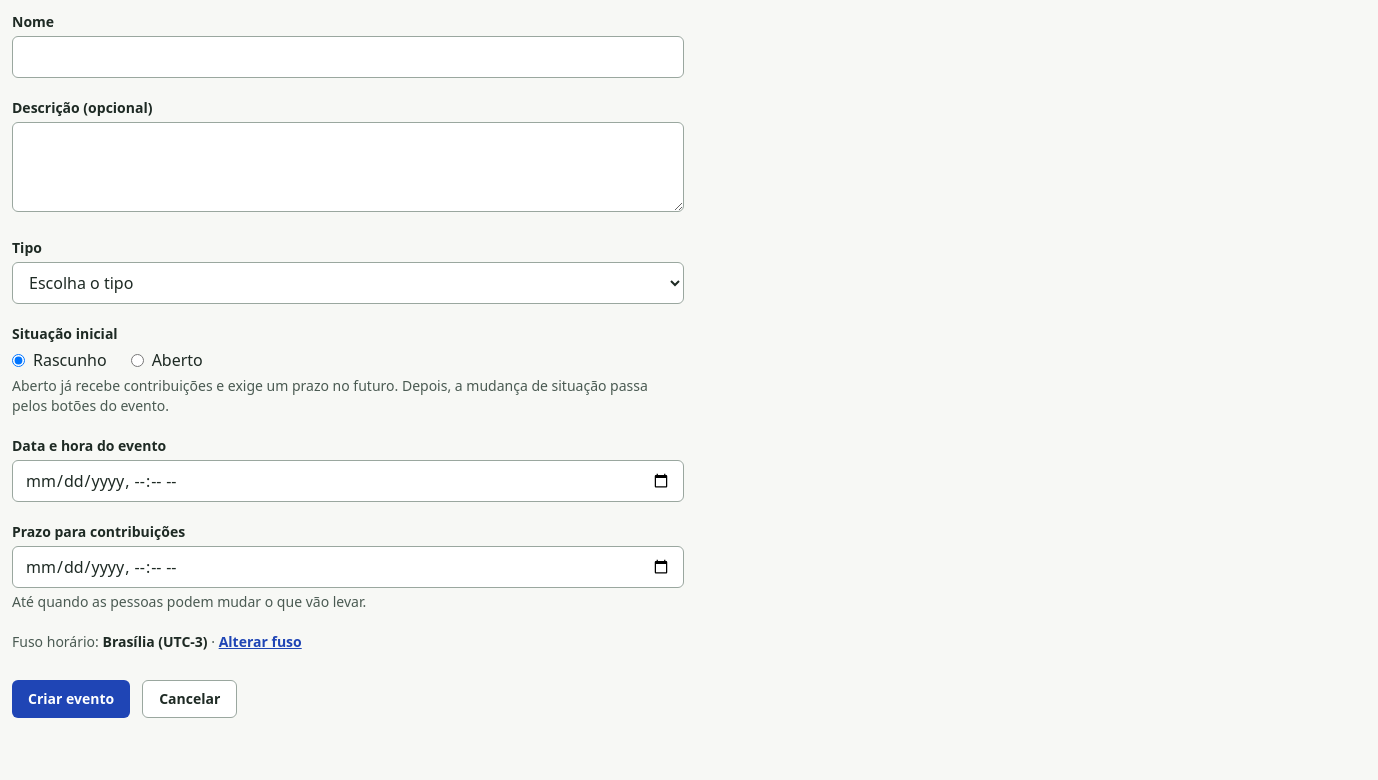
Test: EventFormPage: creating › sends the situation that was chosen and goes to the event
The image size is (1378, 780).
Type "Almoço de fim de ano" into the field labelled "Nome" at coordinates (348, 57), box [12,36,684,78]
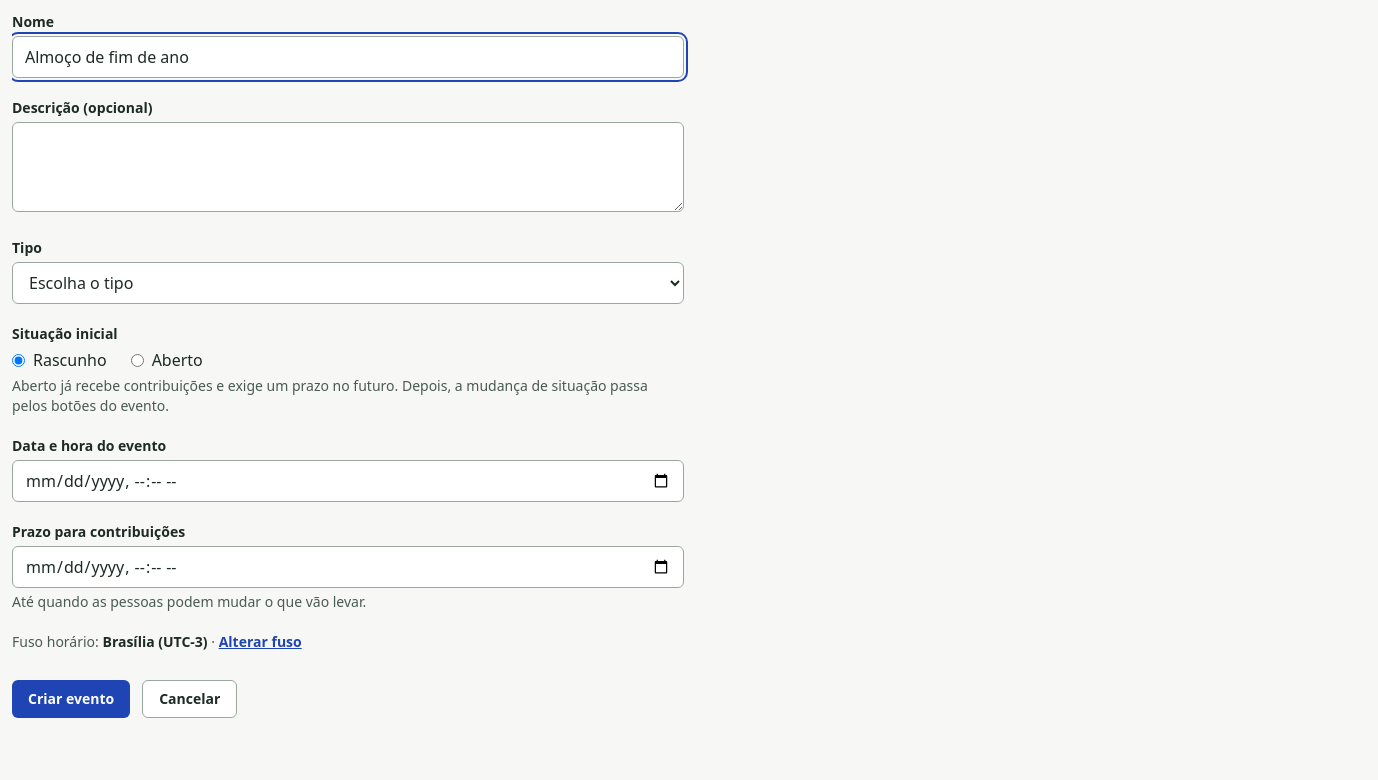
Select "Almoço" in the dropdown labelled "Tipo" at coordinates (348, 283), box [12,262,684,304]
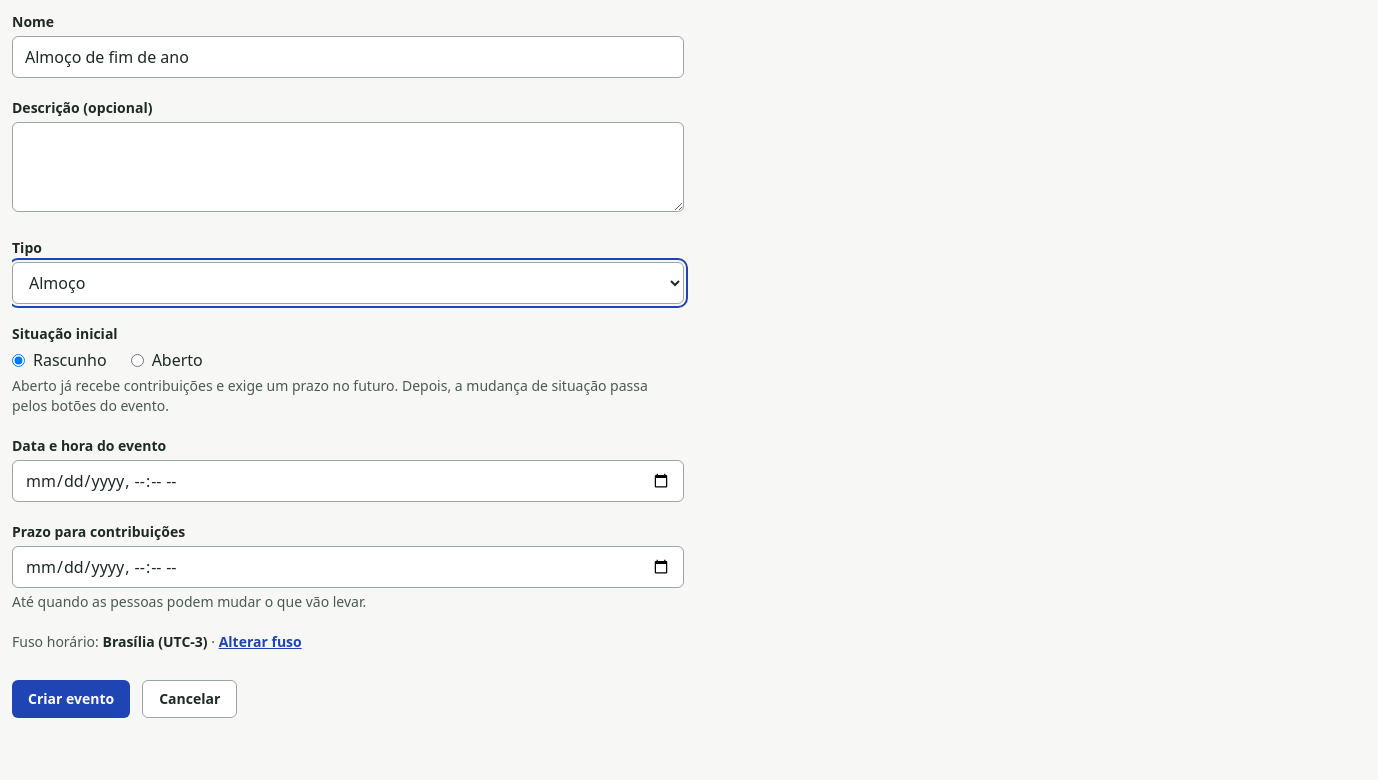
Type "2026-12-18T12:00" into the field labelled "Data e hora do evento" at coordinates (348, 481), box [12,460,684,502]
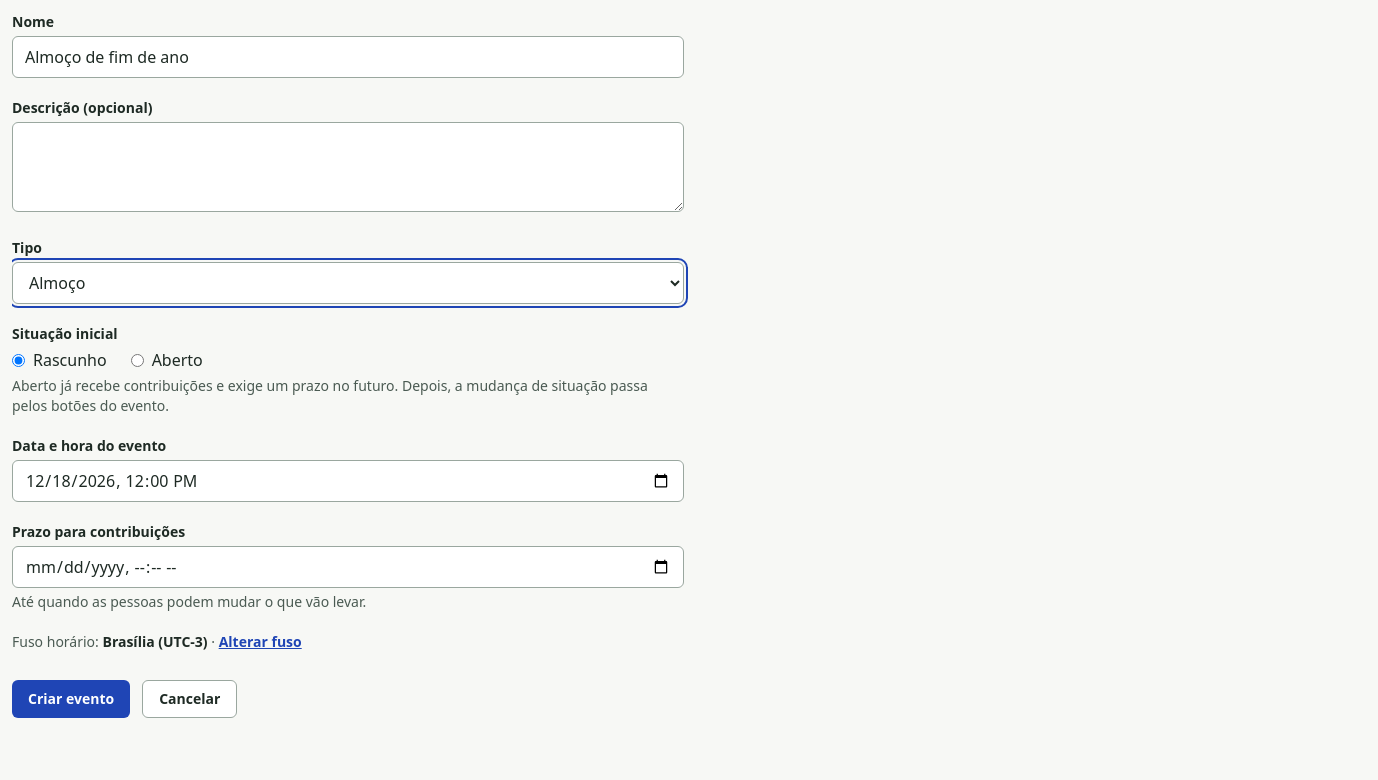
Type "2026-12-13T18:00" into the field labelled "Prazo para contribuições" at coordinates (348, 567), box [12,546,684,588]
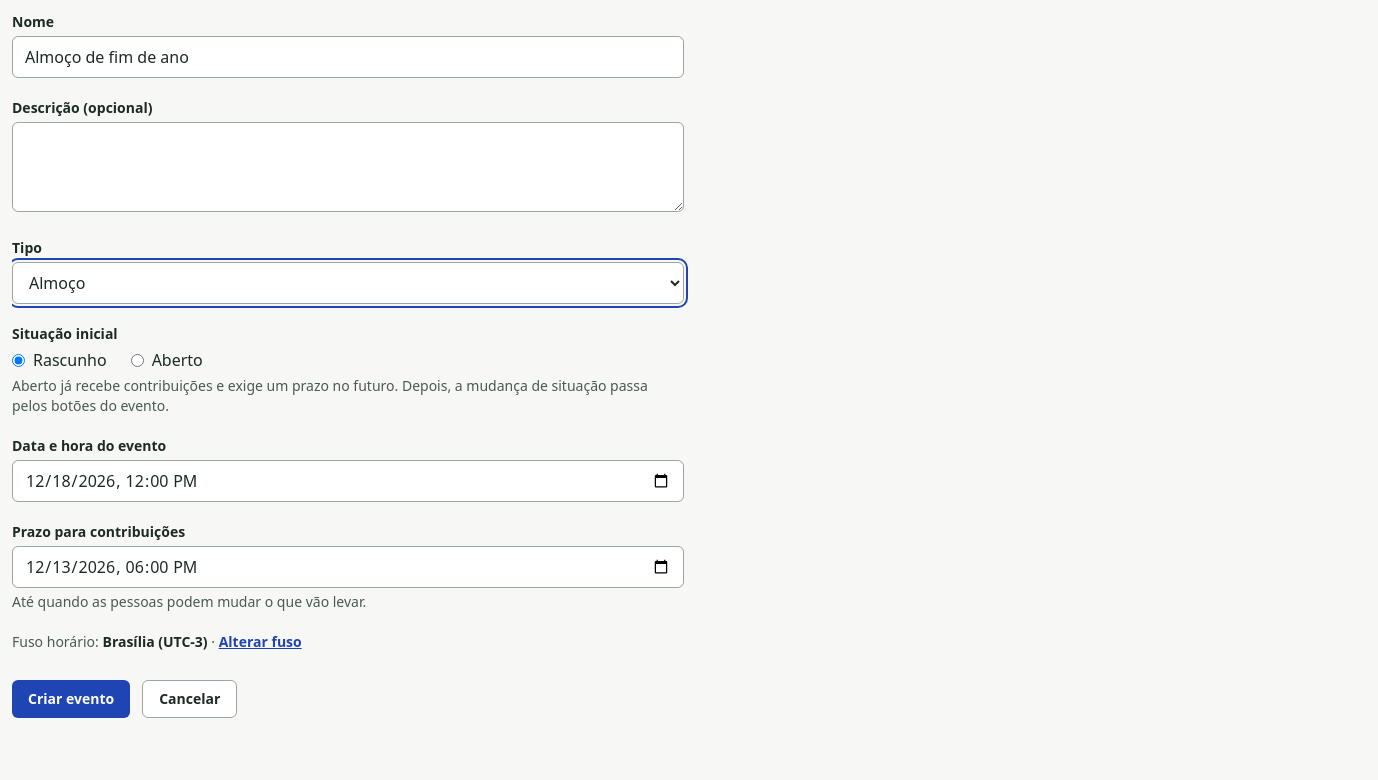
Click the radio button labelled "Aberto" at coordinates (137, 360), box [131,354,144,366]
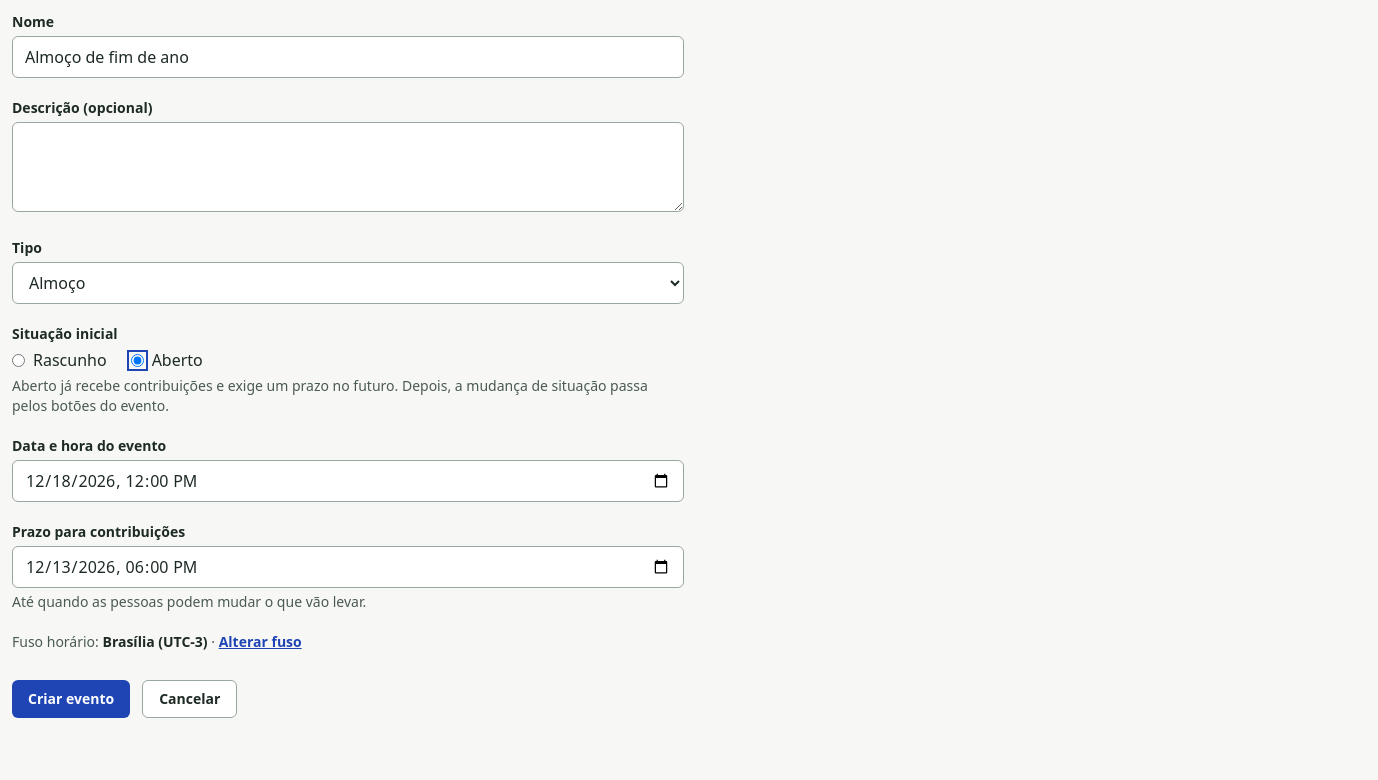
Click the button "Criar evento" at coordinates (71, 699), box [12,680,130,718]
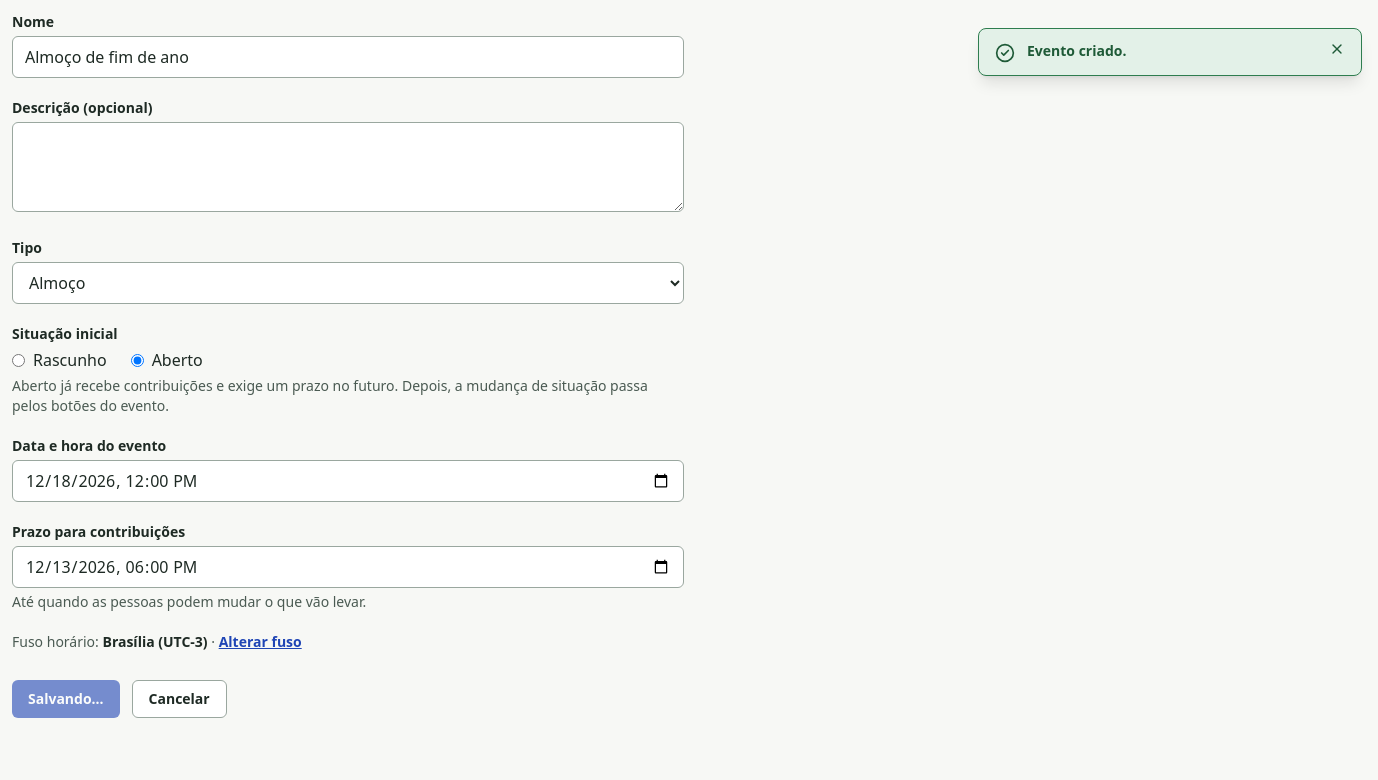
Expected: the text "Evento criado." is shown, [1027,41,1126,60]
